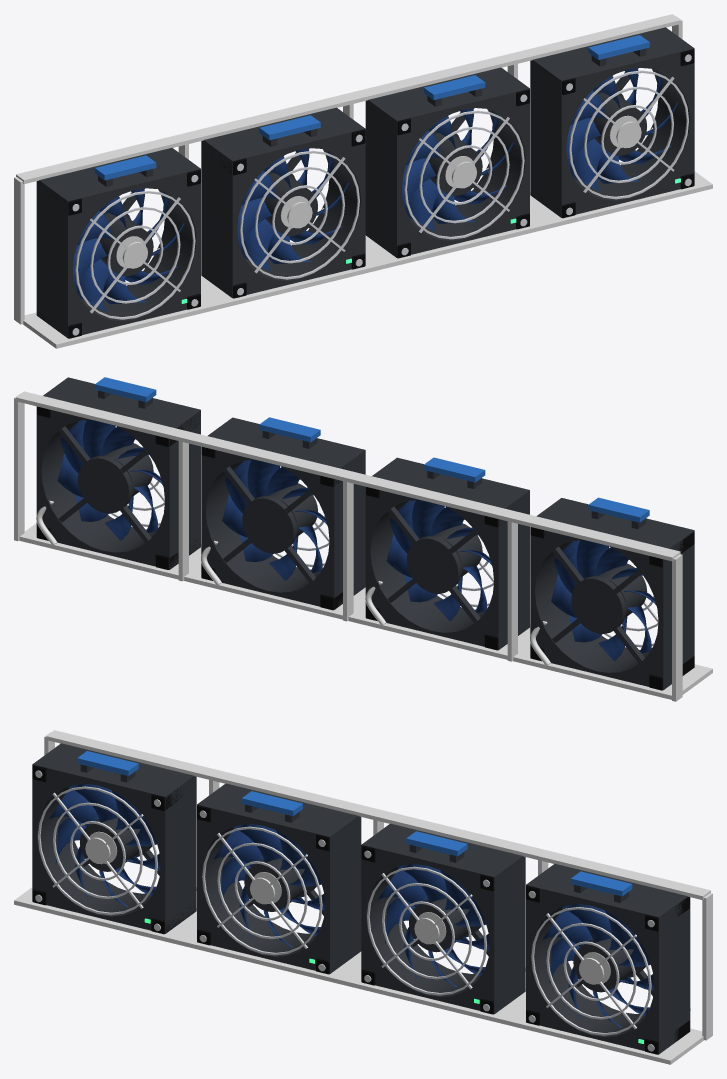
The model's file is hwm_cool_2u_active.glb.
The picture shows the model from 3 angles, top to bottom: view 1: azimuth 30°, elevation 25°; view 2: azimuth 150°, elevation 25°; view 3: azimuth 330°, elevation 25°; orthographic projection.
Visible parts, largest first — view 1: Body, Rotor_Z_0, Rotor_Z_3, Rotor_Z_1, Rotor_Z_2; view 2: Body, Rotor_Z_0, Rotor_Z_2, Rotor_Z_3, Rotor_Z_1; view 3: Body, Rotor_Z_3, Rotor_Z_1, Rotor_Z_0, Rotor_Z_2.
Part boxes in pixels (bbox=[...]): Body: bbox=[14, 14, 712, 348]; Rotor_Z_0: bbox=[72, 188, 184, 311]; Rotor_Z_3: bbox=[566, 68, 677, 191]; Rotor_Z_1: bbox=[237, 148, 349, 271]; Rotor_Z_2: bbox=[402, 108, 513, 231]; Body: bbox=[14, 377, 712, 701]; Rotor_Z_0: bbox=[551, 540, 656, 661]; Rotor_Z_2: bbox=[222, 460, 327, 580]; Rotor_Z_3: bbox=[57, 419, 162, 540]; Rotor_Z_1: bbox=[386, 500, 491, 620]; Body: bbox=[14, 730, 712, 1064]; Rotor_Z_3: bbox=[542, 904, 654, 1027]; Rotor_Z_1: bbox=[213, 824, 324, 947]; Rotor_Z_0: bbox=[48, 784, 160, 907]; Rotor_Z_2: bbox=[377, 864, 489, 987].
Bounding box in the file's own units: 0.4628 × 0.1033 × 0.049.
